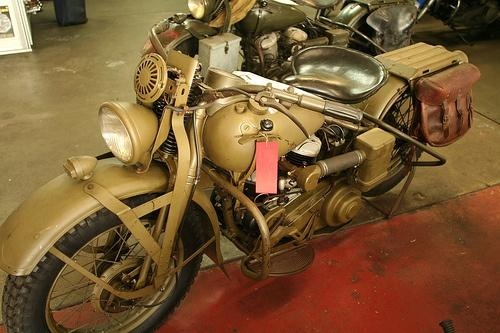motorbike: (4, 21, 482, 333), (140, 1, 417, 57)
